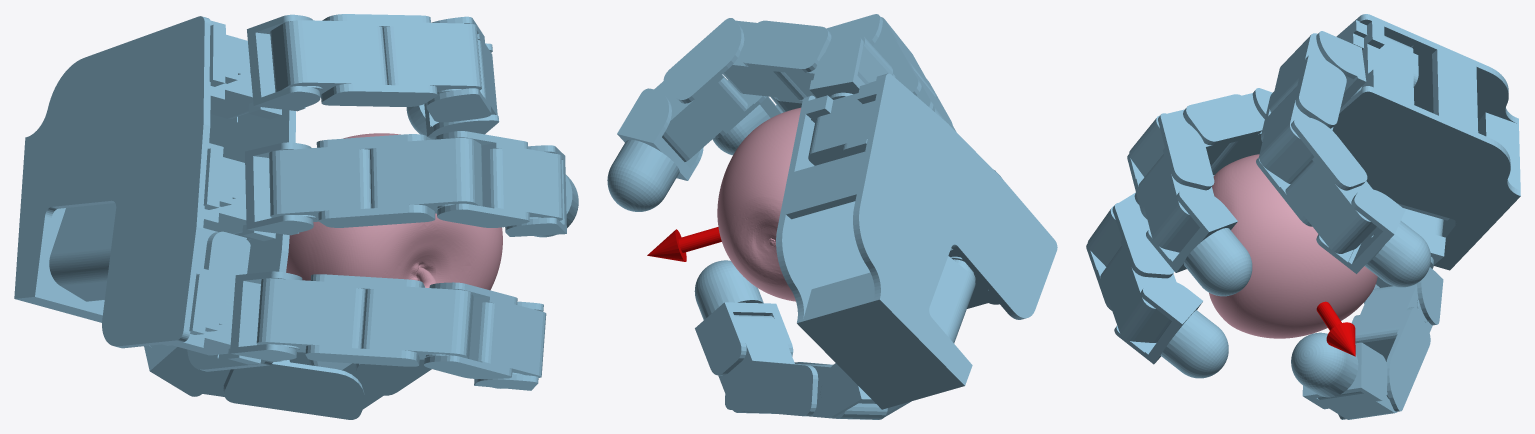
3 renders of one model, left to right at view 1: azimuth 30°, elevation 25°; view 2: azimuth 150°, elevation 25°; view 3: azimuth 270°, elevation 25°, orthographic. The views are drawn at different scales.
Visible parts, largest first — view 1: world, apple.stl; view 2: world, apple.stl; view 3: world, apple.stl.
Part boxes in pixels (bbox=[...]): world: bbox=[14, 14, 578, 419]; apple.stl: bbox=[286, 133, 502, 290]; world: bbox=[607, 14, 1057, 419]; apple.stl: bbox=[717, 107, 800, 301]; world: bbox=[1086, 14, 1520, 419]; apple.stl: bbox=[1209, 154, 1377, 338].
Size of the model in its own units: 0.1682 by 0.1622 by 0.1788.
